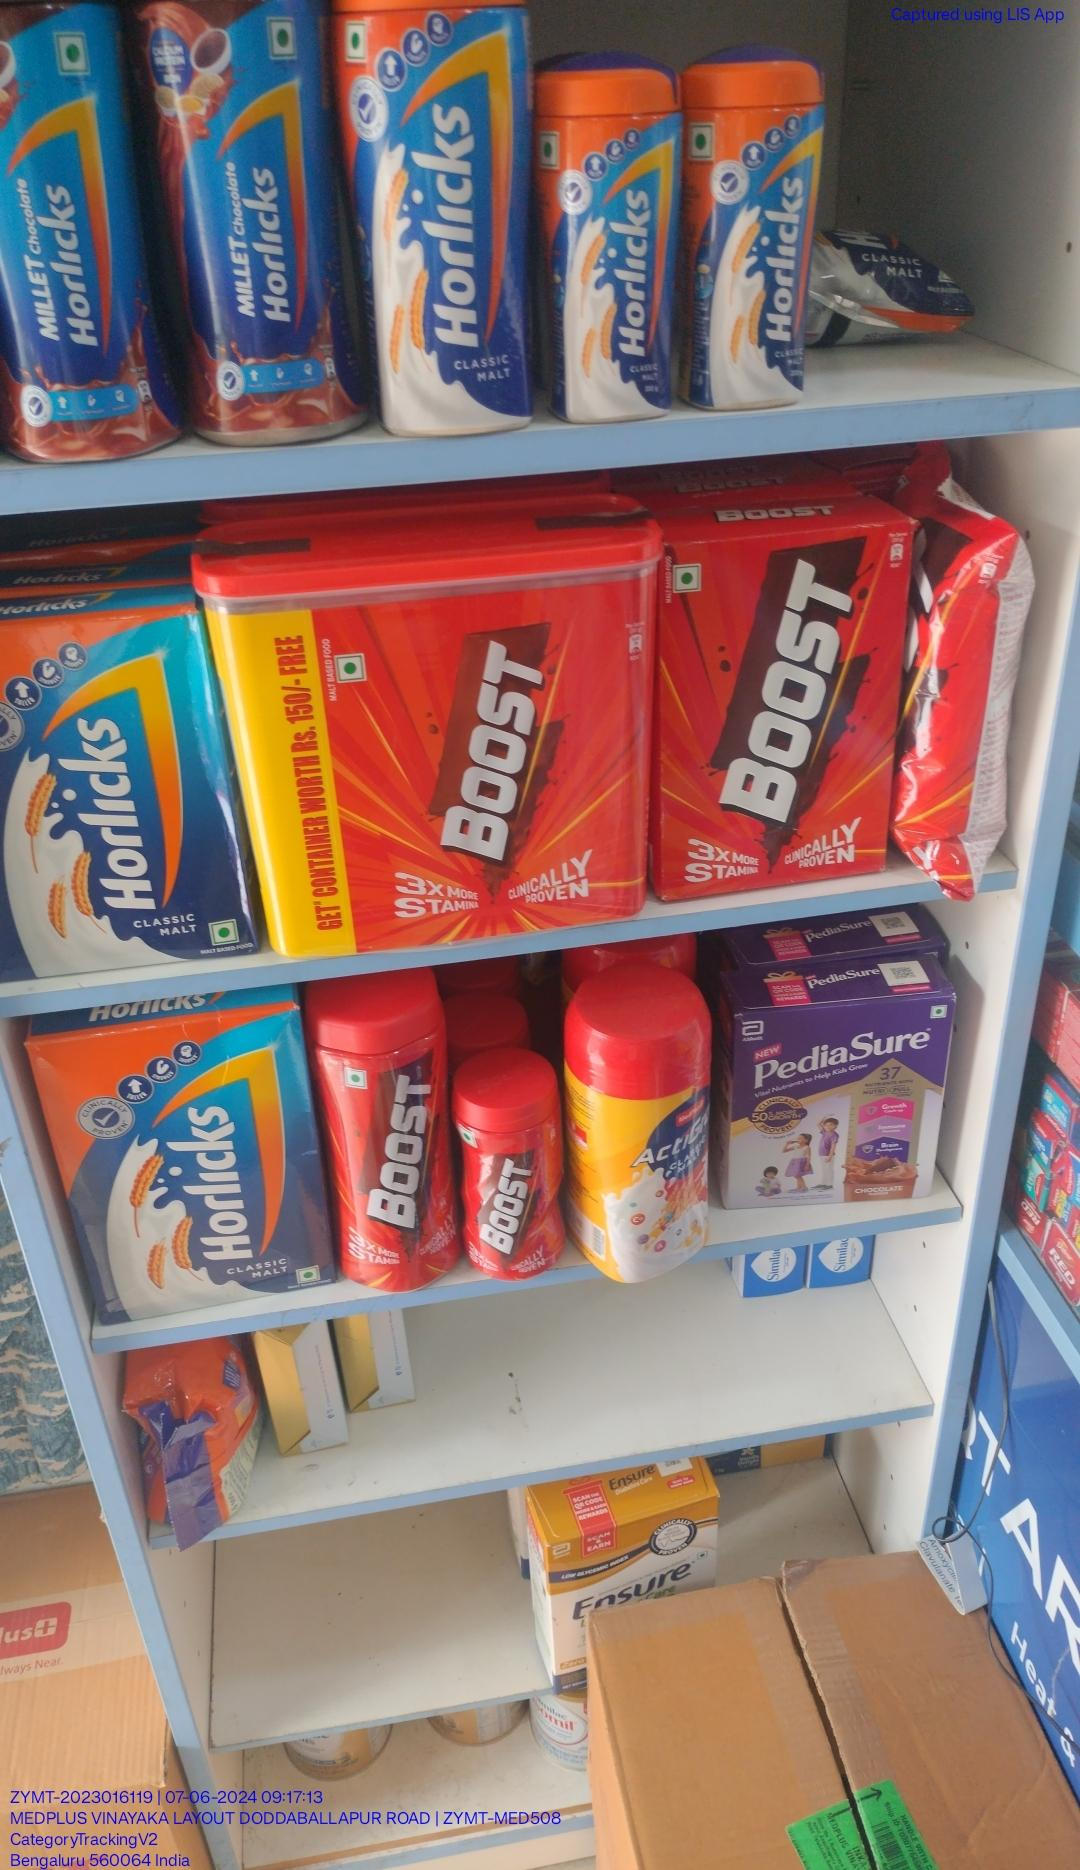HORLICK_CLASSIC_MALT_200_G_JAR: (540, 53, 672, 425), (684, 51, 814, 411)
HORLICK_CLASSIC_MALT_500_G_JAR: (342, 0, 530, 437)
PEDIASURE_CHOCOLATE_500_G_PACK: (738, 1000, 939, 1211)
